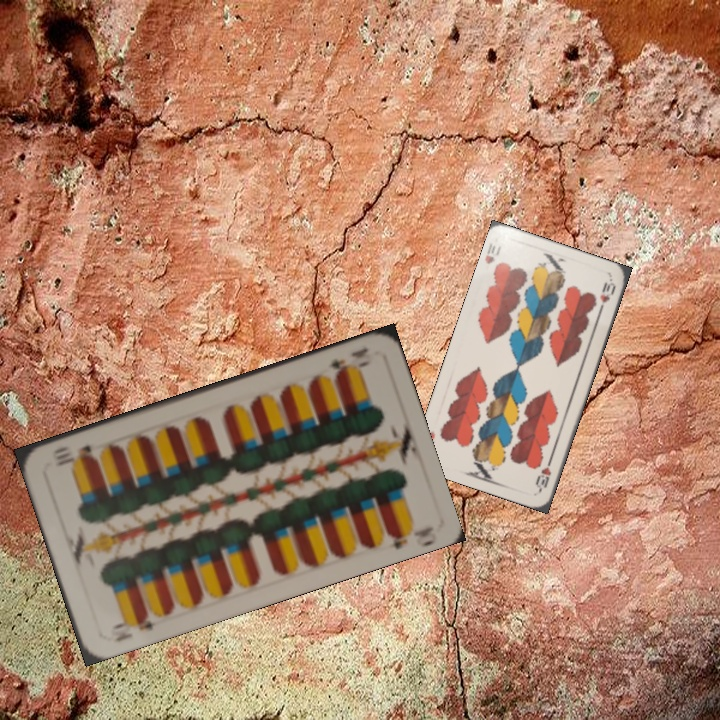E10: (106, 609, 159, 645), (324, 343, 372, 378)
H10: (532, 455, 554, 494), (481, 239, 503, 267)
